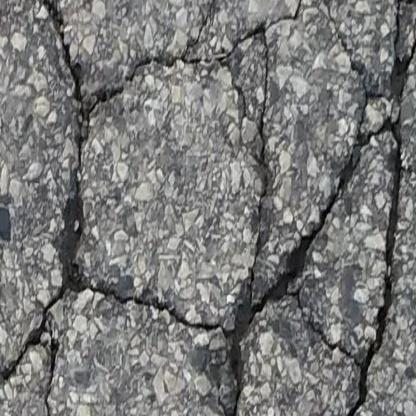Cracks: (0, 0, 416, 416), (376, 0, 416, 104)
